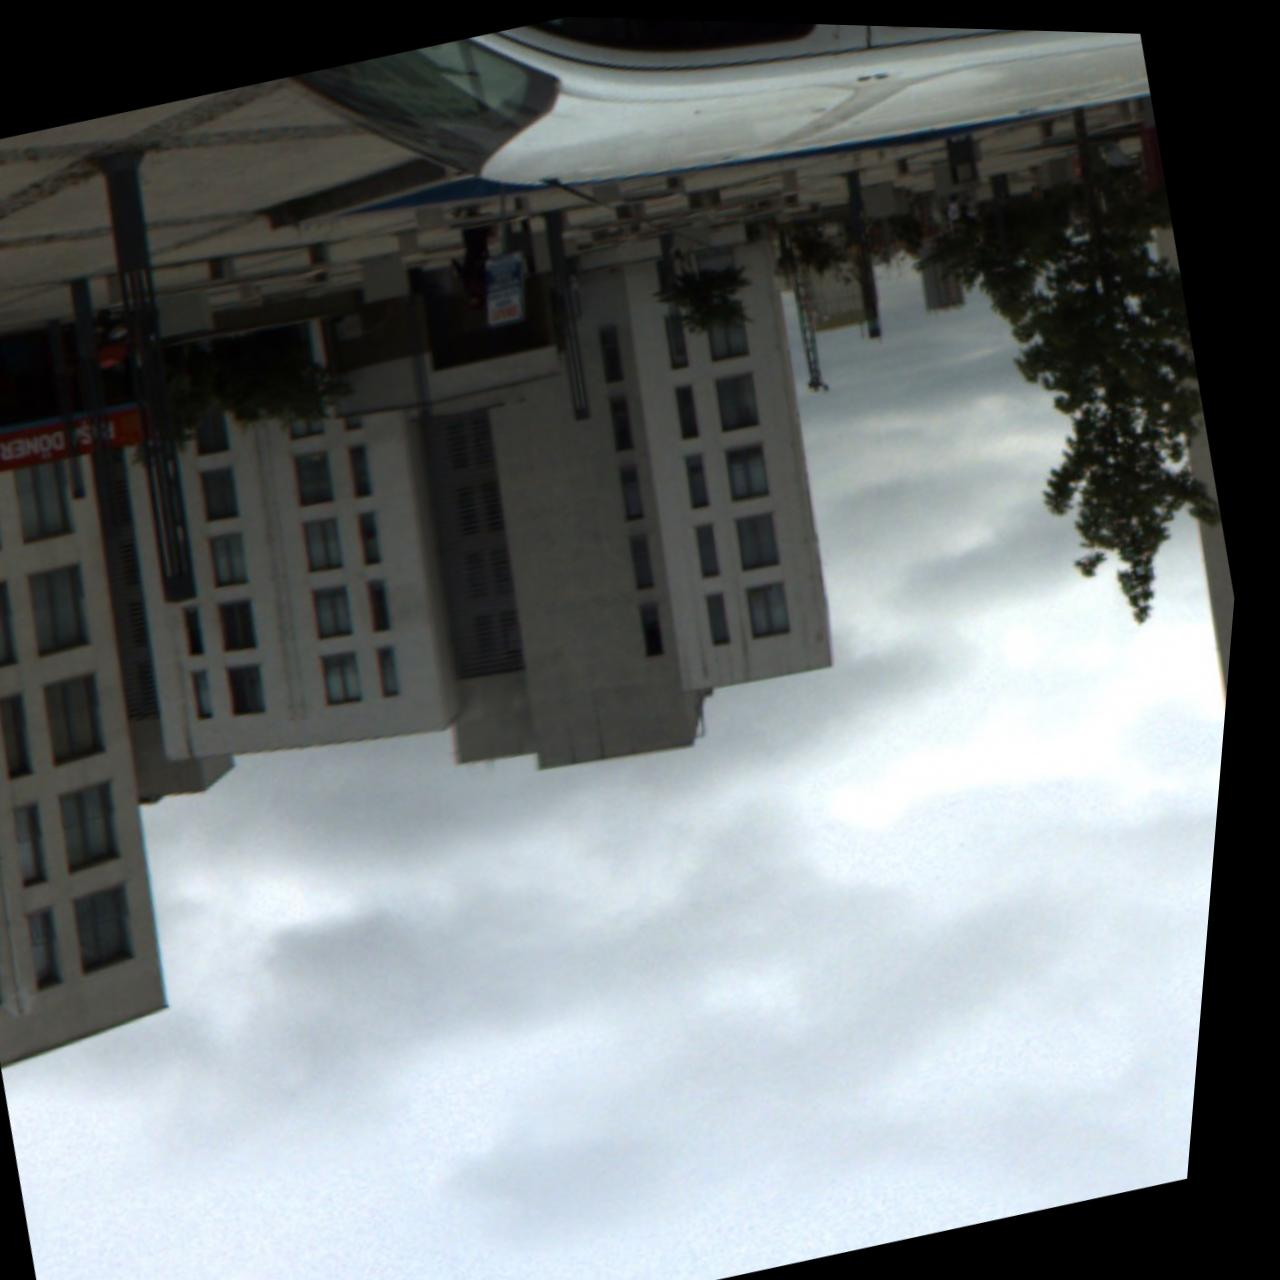SignStore: (0, 397, 157, 471)
